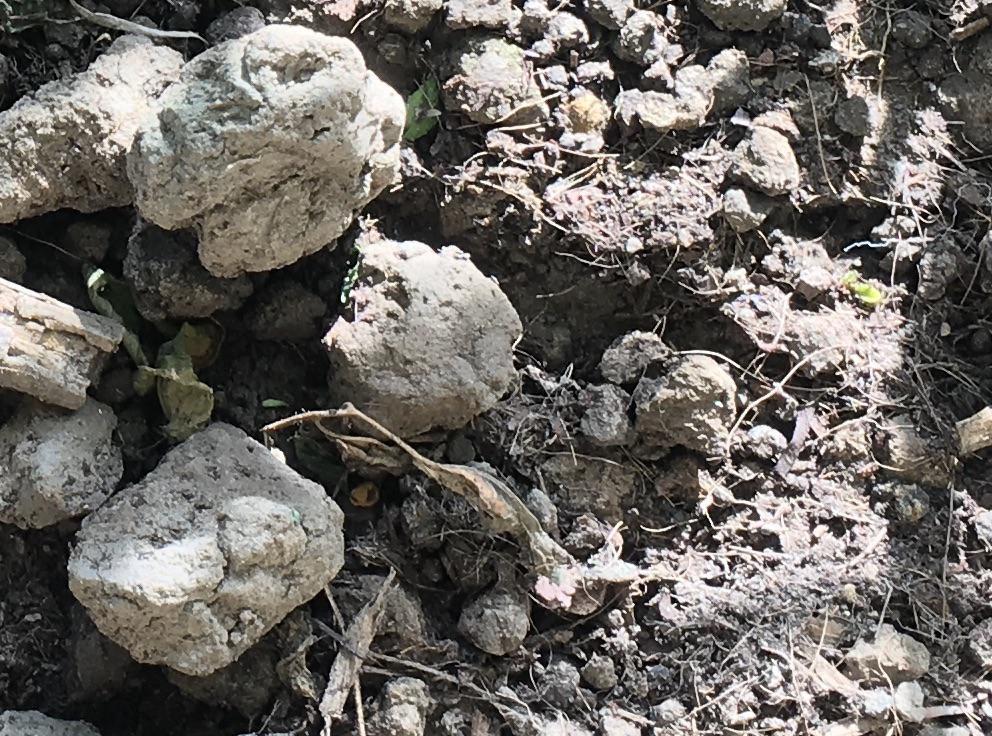block: (64, 427, 347, 673), (130, 26, 395, 276), (328, 246, 518, 443)
